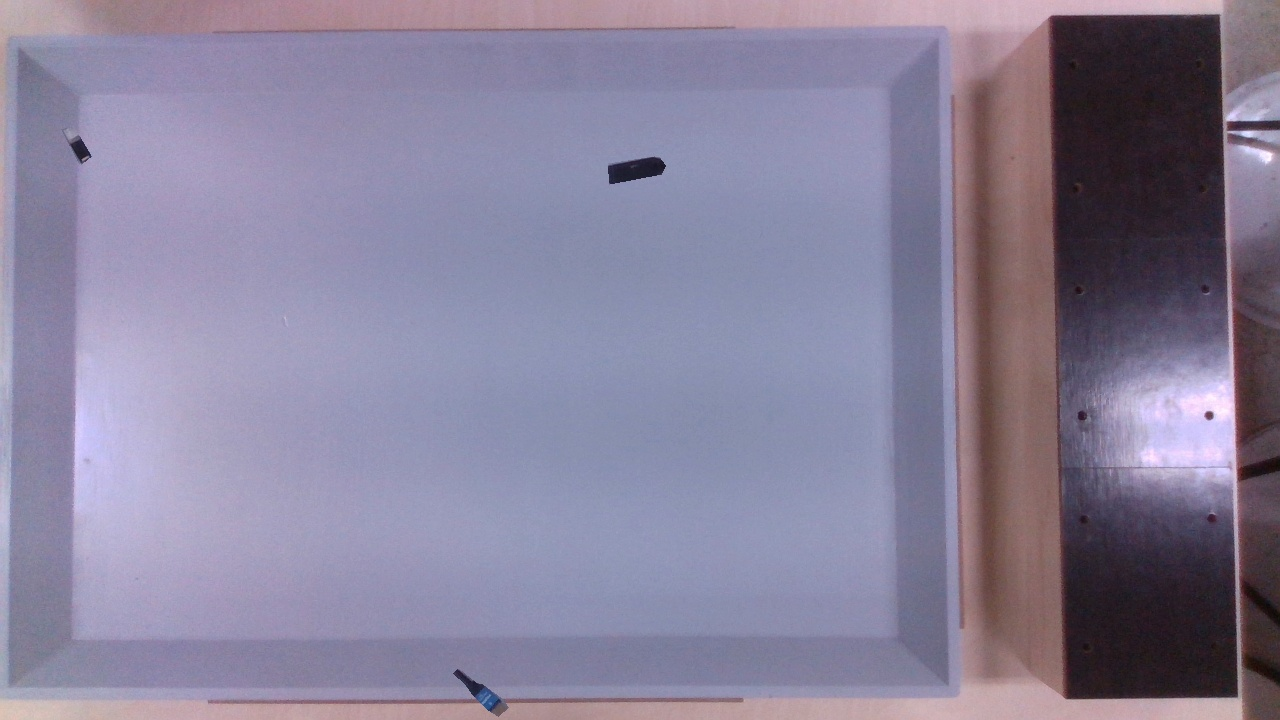Usb_Big: (608, 156, 665, 184)
Usb_HDMI: (453, 668, 508, 716)
Usb_small: (61, 126, 91, 164)
